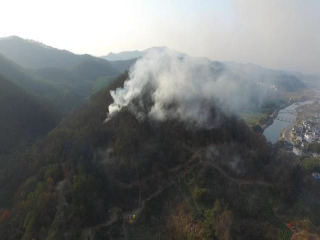smoke: (106, 30, 262, 133)
